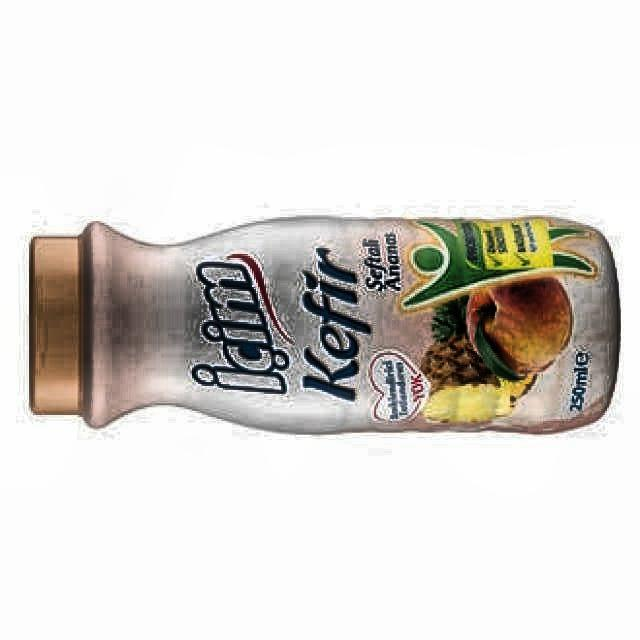plastic: (30, 216, 619, 432)
